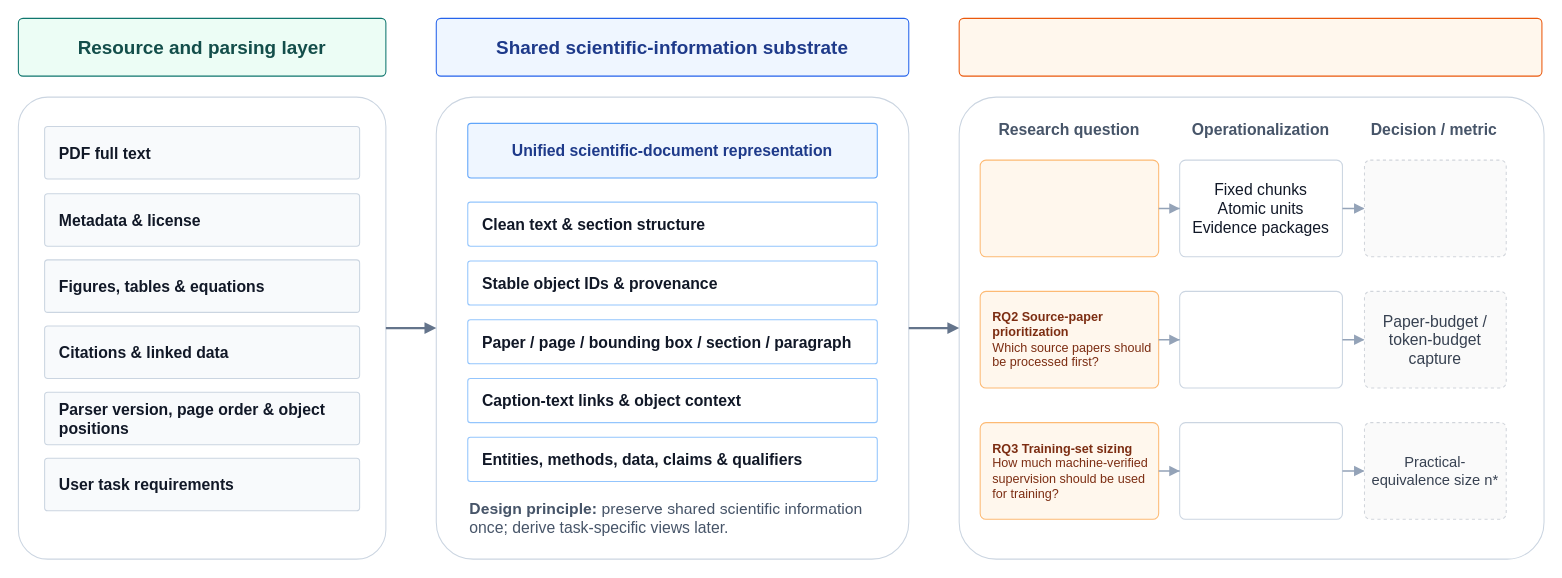
Some shapes in this 1562 by 578 pixel diagram are drawn without their labels. Here are the shapes that lost their labels. From the top down, the centre of each, then its label:
(1250,46): Task-conditioned application views and decisions
(1069,208): RQ1 Representation How should evidence be organized for scientific RAG?
(1434,208): CES@5 BudgetCES
(1260,339): Task-specific yield prediction NB2 + 5-fold OOF
(1260,470): Nested subsets Practical equivalence Model replication
